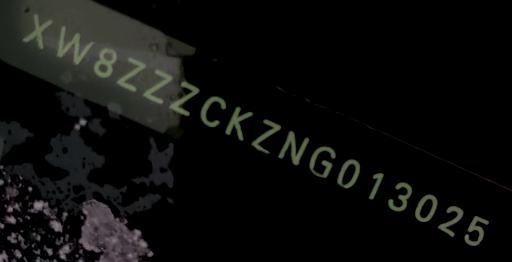letter: (56, 26, 92, 63), (277, 129, 311, 165), (250, 117, 282, 153), (168, 79, 198, 116), (142, 68, 174, 102), (23, 13, 53, 48), (116, 56, 146, 91), (224, 106, 254, 140), (200, 92, 228, 126), (308, 144, 336, 178), (438, 203, 464, 236), (464, 214, 490, 247), (334, 158, 362, 188), (388, 180, 414, 211), (92, 47, 118, 76), (413, 193, 439, 220), (362, 170, 386, 199)
